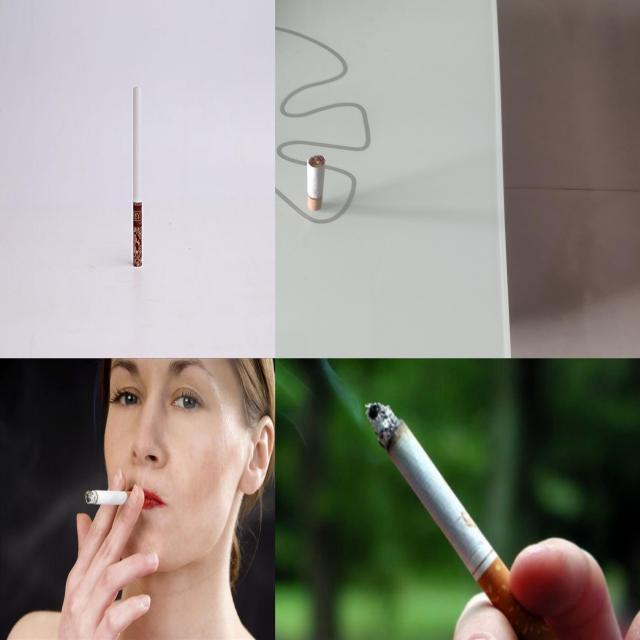smoke: (365, 401, 559, 639), (132, 84, 143, 268), (308, 155, 326, 212), (85, 488, 137, 507)
